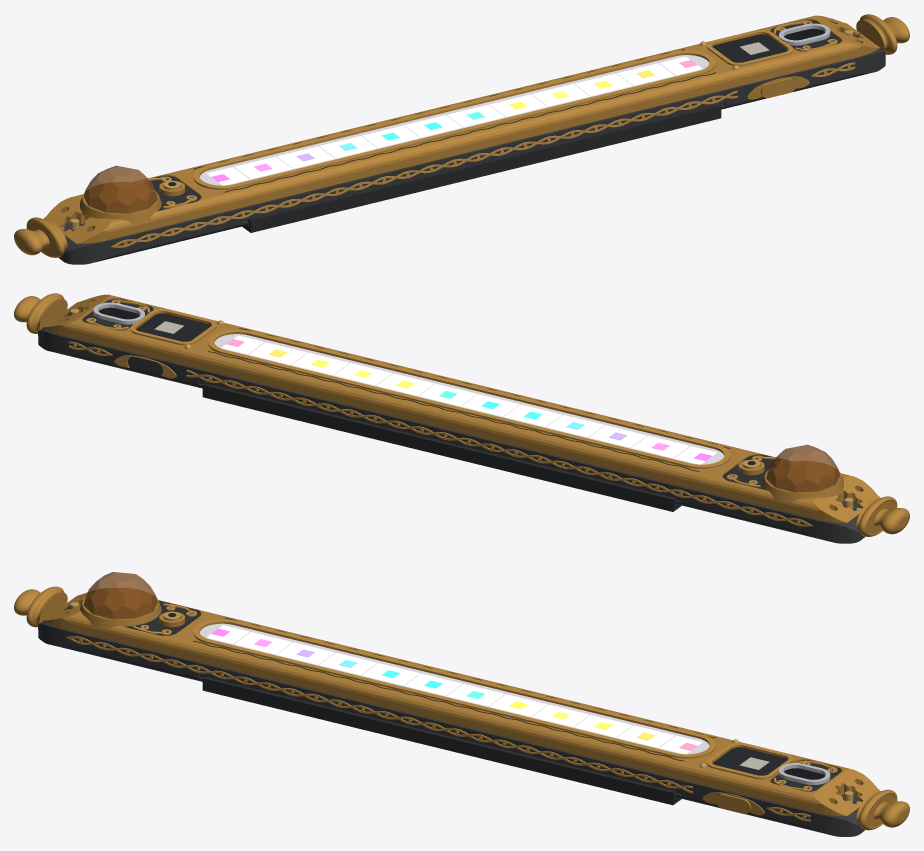
3 views of the same model, one above another, from view 1: azimuth 30°, elevation 25°; view 2: azimuth 150°, elevation 25°; view 3: azimuth 330°, elevation 25° (orthographic).
Visible parts, largest first — view 1: Deck, Base, Mount Rail, LED Bezel, Vine, Diffuser, Dome, Dome Collar, Finial L, Finial L (2), View Glass, View Bezel (+13 smaller); view 2: Deck, Base, Mount Rail, LED Bezel, Body1, Diffuser, Dome, Dome Collar, Finial L, Finial L (2), View Glass, View Bezel (+13 smaller); view 3: Deck, Base, Mount Rail, LED Bezel, Vine, Diffuser, Dome, Dome Collar, Finial L (2), Finial L, View Glass, View Bezel (+13 smaller).
Boxes of the visible parts, x1,y1,x2,y2 form: Deck: (44,15,879,243); Base: (43,35,885,264); Mount Rail: (242,104,721,232); LED Bezel: (193,50,715,189); Vine: (111,90,737,247); Diffuser: (199,55,709,185); Dome: (84,165,157,213); Dome Collar: (80,182,161,223); Finial L: (14,217,67,257); Finial L (2): (856,14,909,54); View Glass: (712,34,787,62); View Bezel: (707,30,793,66); Deck: (44,294,879,522); Base: (38,312,880,543); Mount Rail: (202,383,681,511); LED Bezel: (208,329,730,468); Body1: (186,369,812,526); Diffuser: (214,334,724,464); Dome: (766,444,839,492); Dome Collar: (762,461,843,502); Finial L: (856,496,909,536); Finial L (2): (14,293,67,333); View Glass: (136,313,211,341); View Bezel: (130,309,216,345); Deck: (44,588,879,815); Base: (38,605,880,836); Mount Rail: (202,676,681,805); LED Bezel: (193,619,715,758); Vine: (66,636,692,793); Diffuser: (200,623,709,754); Dome: (84,572,157,619); Dome Collar: (80,588,161,629); Finial L (2): (856,789,909,830); Finial L: (14,586,67,627); View Glass: (712,747,787,775); View Bezel: (707,743,793,779).
Size of the model in its own units: 0.3 by 0.0235 by 0.0284.
